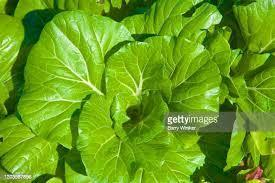Healthy-Pechay: (7, 4, 275, 178)
